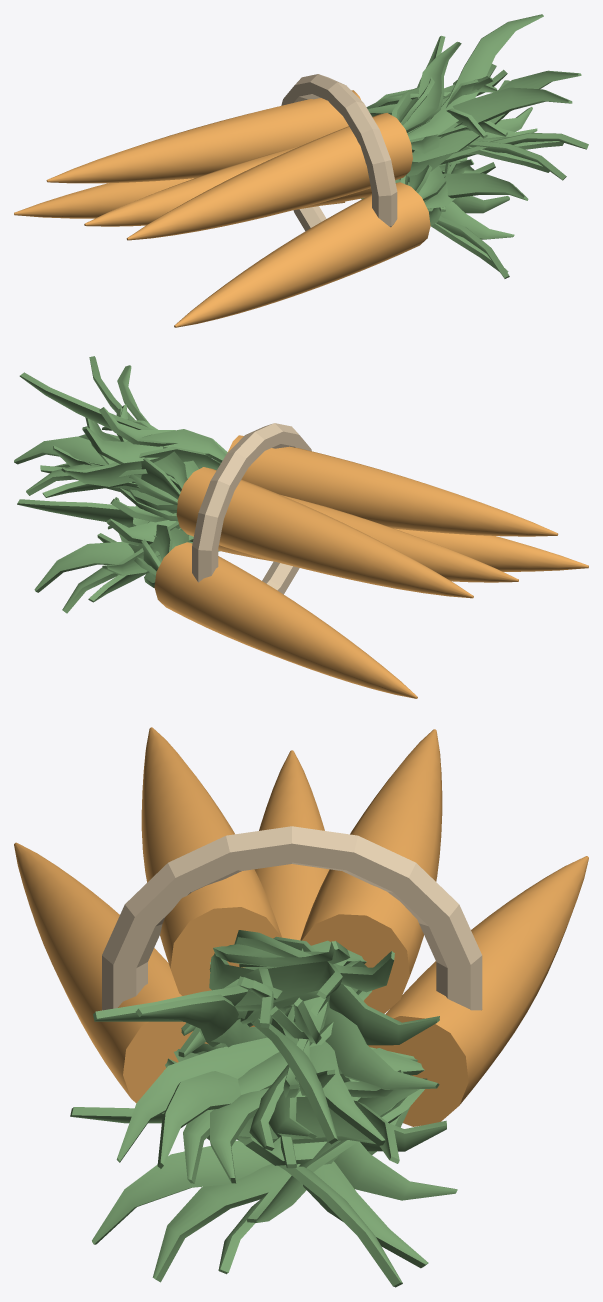
The model's file is fresh-produce-and-groceries-carrot-bunch-493736b6__24349.glb.
3 renders of one model, top to bottom at view 1: azimuth 30°, elevation 25°; view 2: azimuth 150°, elevation 25°; view 3: azimuth 270°, elevation 25°, orthographic. The views are drawn at different scales.
Parts seen in each view (by area): view 1: carrot-bunch; view 2: carrot-bunch; view 3: carrot-bunch.
Part boxes in pixels (x1,y1,x2,y2): carrot-bunch: (14, 14, 588, 327); carrot-bunch: (14, 356, 588, 698); carrot-bunch: (14, 727, 588, 1287).
Bounding box in the file's own units: 0.2517 × 0.1058 × 0.1517.
